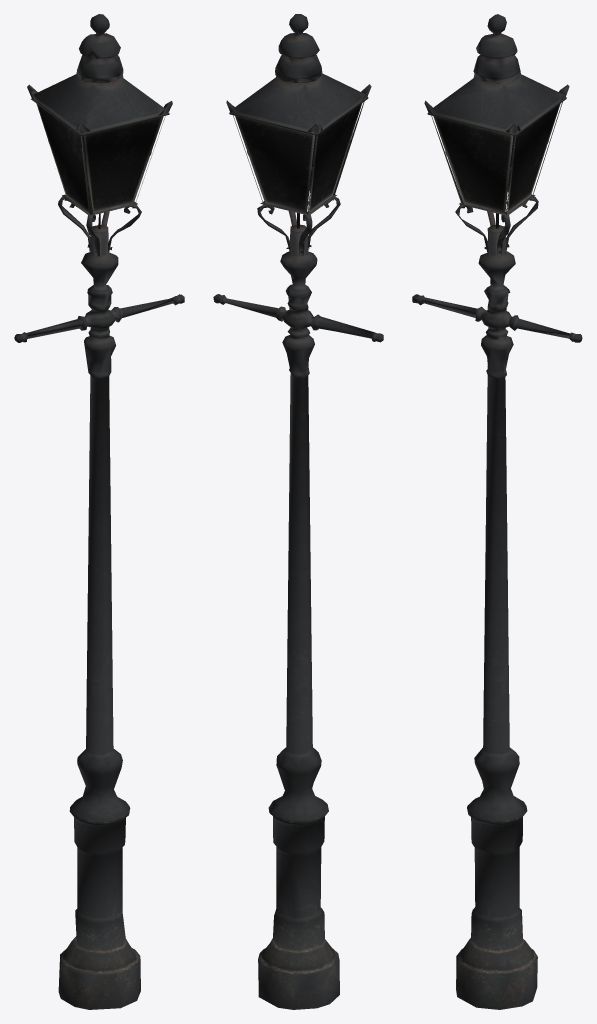
The model's file is street_lamp_01_lo.gltf.
The picture shows the model from 3 angles, left to right: view 1: azimuth 30°, elevation 25°; view 2: azimuth 150°, elevation 25°; view 3: azimuth 330°, elevation 25°; orthographic projection.
Parts seen in each view (by area): view 1: street_lamp_01; view 2: street_lamp_01; view 3: street_lamp_01.
Part boxes in pixels (box(x1,y1,x2,y2)): street_lamp_01: box(14, 14, 184, 1009); street_lamp_01: box(213, 14, 383, 1009); street_lamp_01: box(412, 14, 582, 1009).
Size of the model in its own units: 0.7022 by 3.87 by 0.3862.
Materials: 3 (3 with a texture image).
